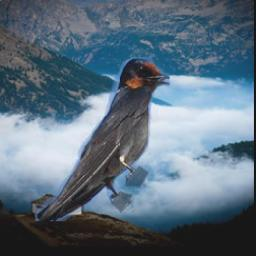Swallow: (36, 57, 171, 221)
